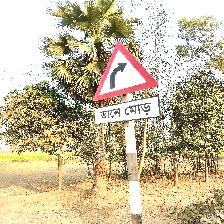Right-turn: (92, 40, 161, 129)
